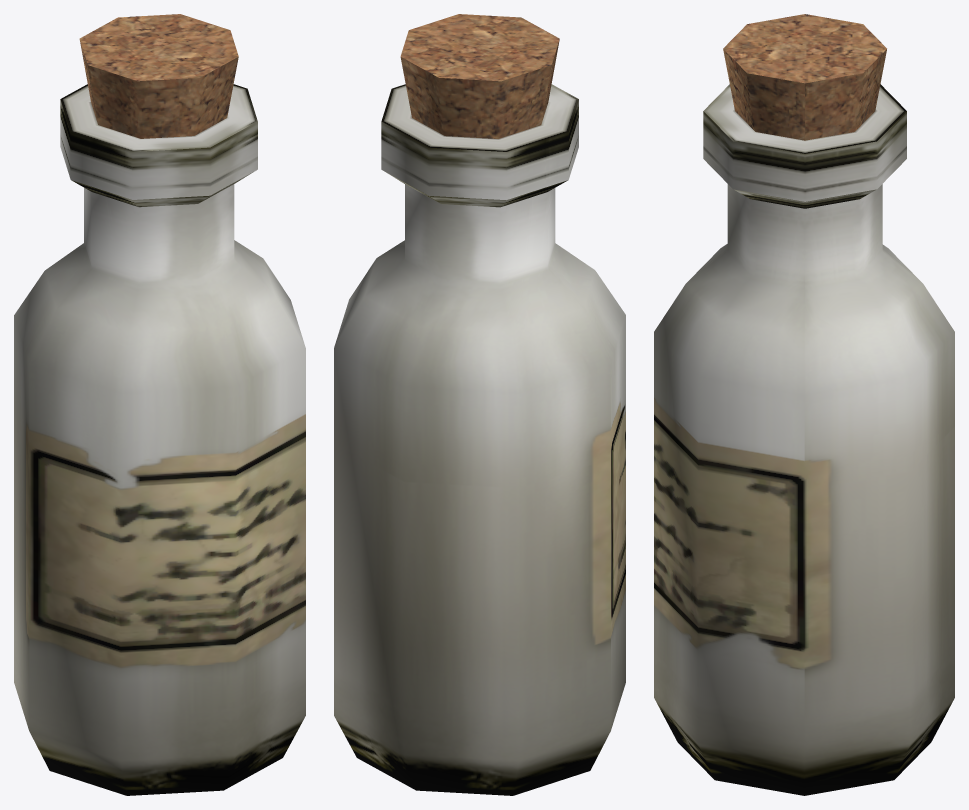
File: bottle_white.fbx
The picture shows the model from 3 angles, left to right: view 1: azimuth 30°, elevation 25°; view 2: azimuth 150°, elevation 25°; view 3: azimuth 270°, elevation 25°; orthographic projection.
Parts seen in each view (by area): view 1: bottle_white; view 2: bottle_white; view 3: bottle_white.
Boxes of the visible parts, box(x1,y1,x2,y2) form: bottle_white: box(14, 14, 305, 795); bottle_white: box(334, 14, 625, 795); bottle_white: box(654, 14, 954, 795).
Bounding box in the file's own units: 7.39 × 18.8 × 7.39.
